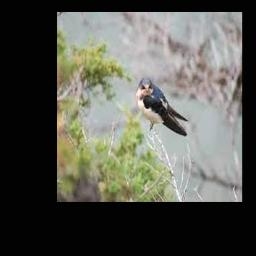Swallow: (137, 76, 189, 135)
